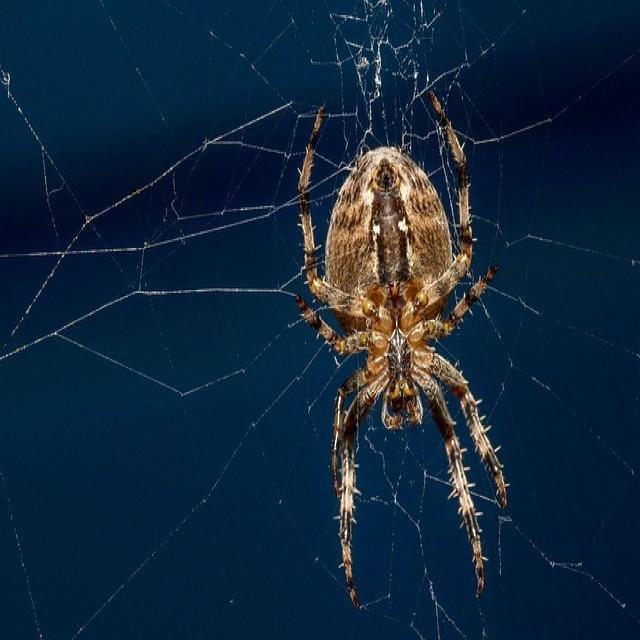spyder: (298, 92, 506, 606)
